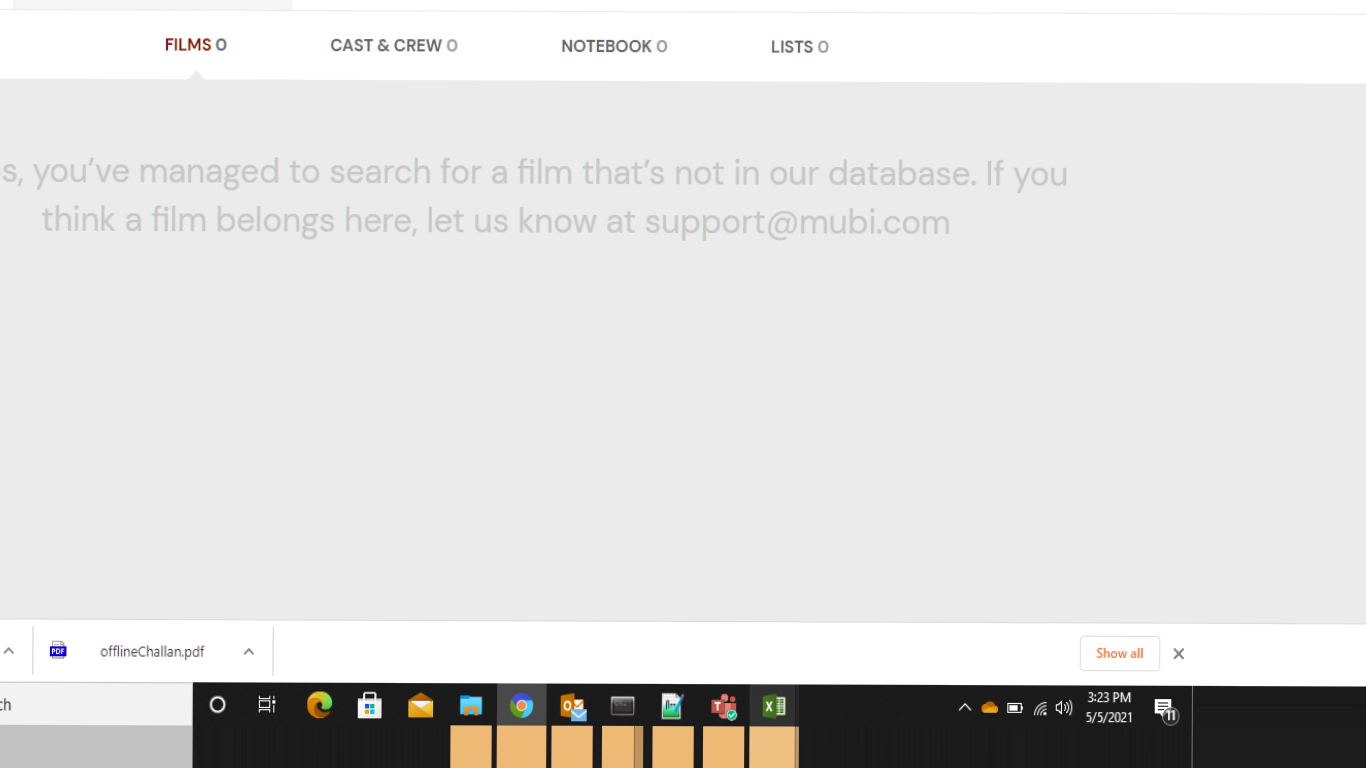noresultsfound: (5, 137, 1089, 275)
